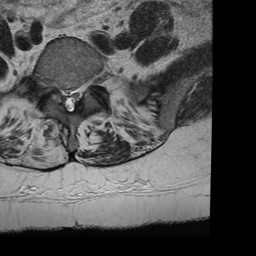CCS_normal: (65, 78, 73, 119)
LFS_normal: (83, 71, 91, 99)
LLS_normal: (73, 75, 82, 111)
RFS_severe_stenosis: (48, 70, 56, 99)
RLS_normal: (56, 77, 65, 109)
